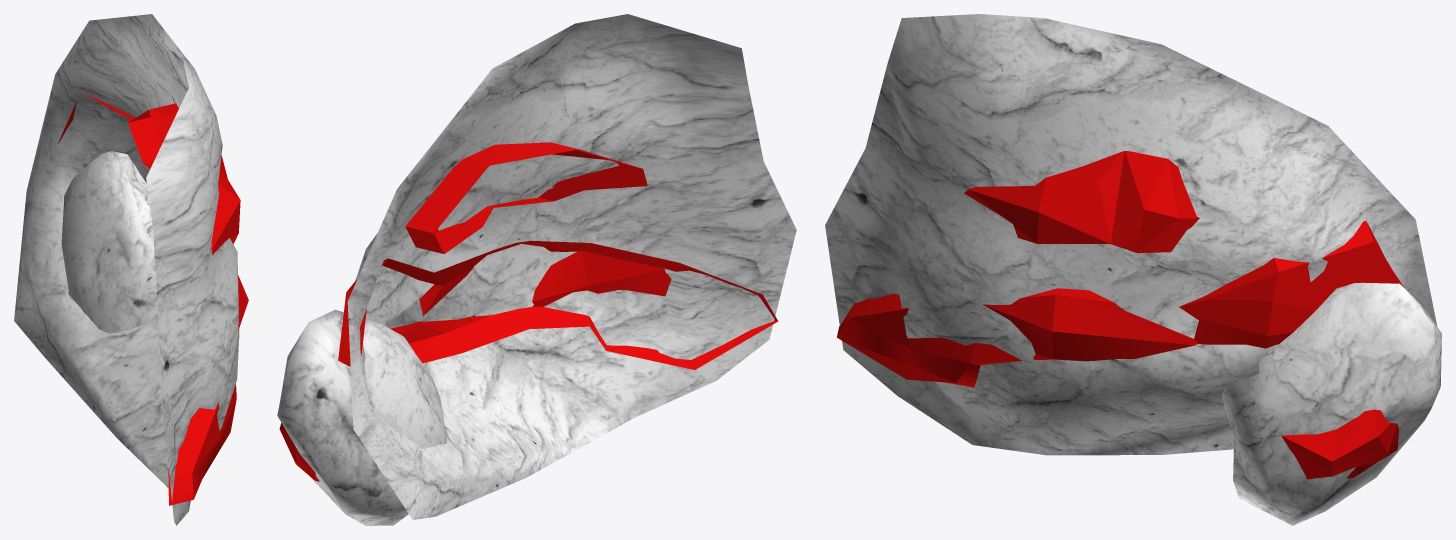
Rendered from Alt_Light_1_TOGETHER_curve_1.fbx.
3 views of the same model, side by side, from view 1: azimuth 30°, elevation 25°; view 2: azimuth 150°, elevation 25°; view 3: azimuth 270°, elevation 25° (orthographic). The views are drawn at different scales.
Visible parts, largest first — view 1: i_r, i_e; view 2: i_r, i_e; view 3: i_r, i_e.
Part boxes in pixels (x1,y1,x2,y2): i_r: (14,14,239,525); i_e: (58,94,248,505); i_r: (277,14,796,525); i_e: (279,142,778,481); i_r: (825,14,1441,525); i_e: (837,150,1403,479).
Bounding box in the file's own units: 37.7 × 55.94 × 68.5.
